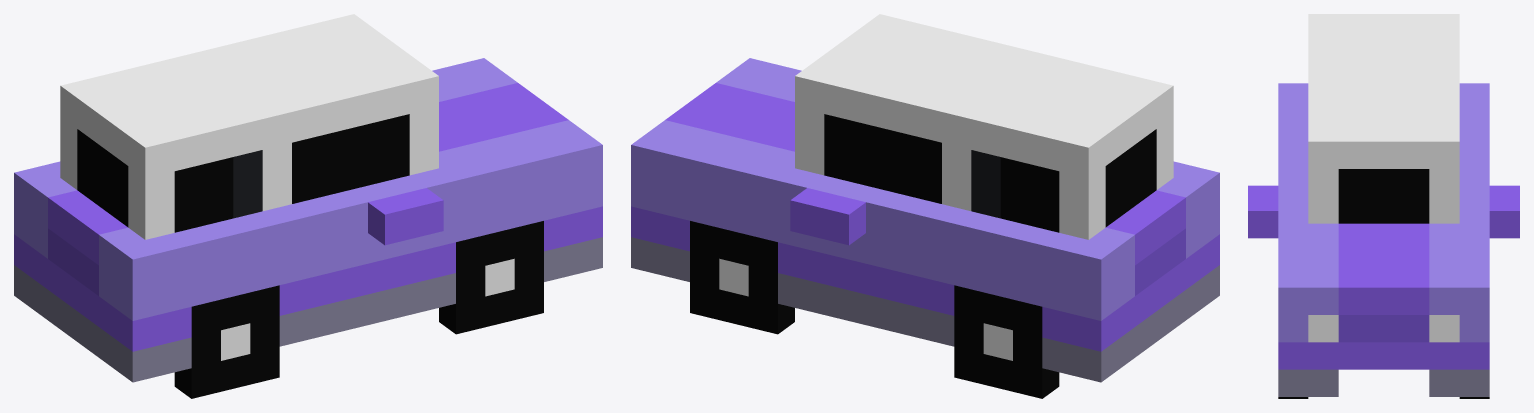
The model's file is PurpleCar.obj.
The picture shows the model from 3 angles, left to right: view 1: azimuth 30°, elevation 25°; view 2: azimuth 150°, elevation 25°; view 3: azimuth 270°, elevation 25°; orthographic projection. The views are drawn at different scales.
Size of the model in its own units: 1.6 by 0.8 by 0.9.
1 material, 1 textured.
